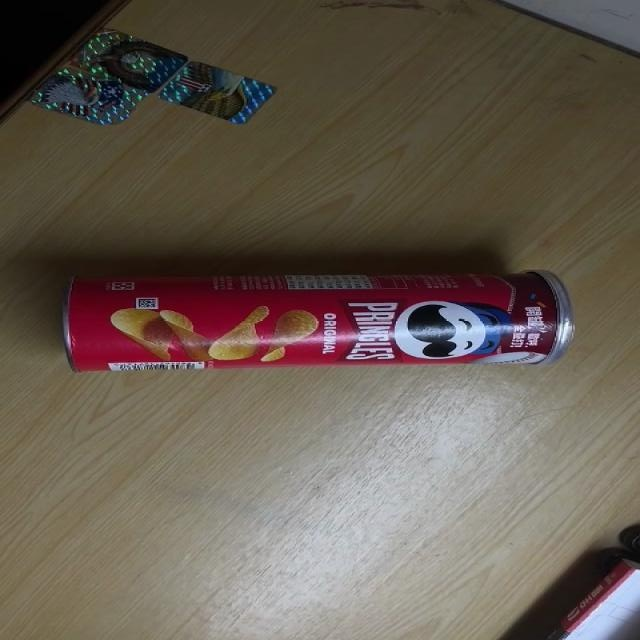Pringles: (59, 269, 574, 374)
